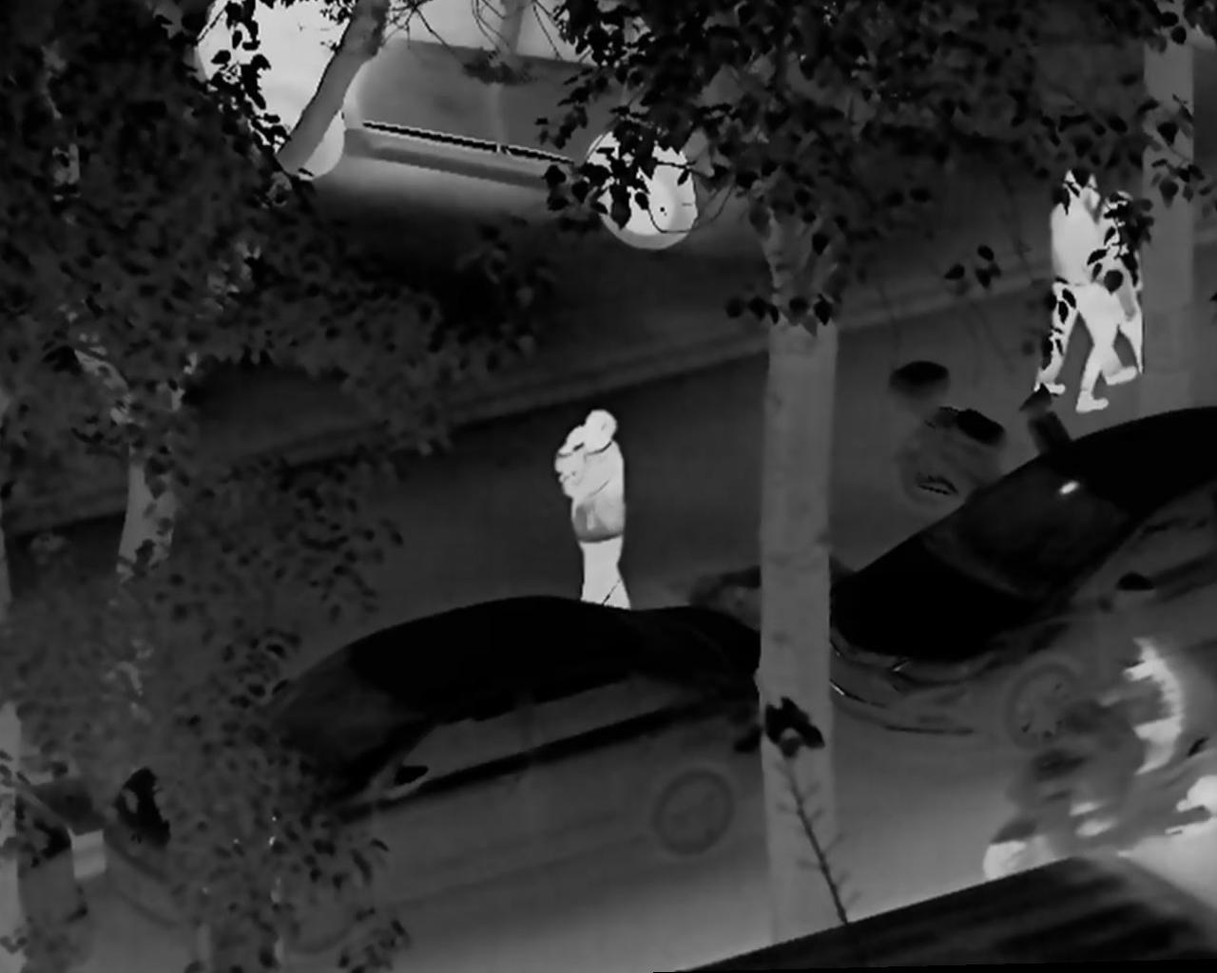person: (1065, 623, 1186, 840), (1034, 162, 1136, 402), (1072, 184, 1150, 414), (551, 404, 637, 611)
